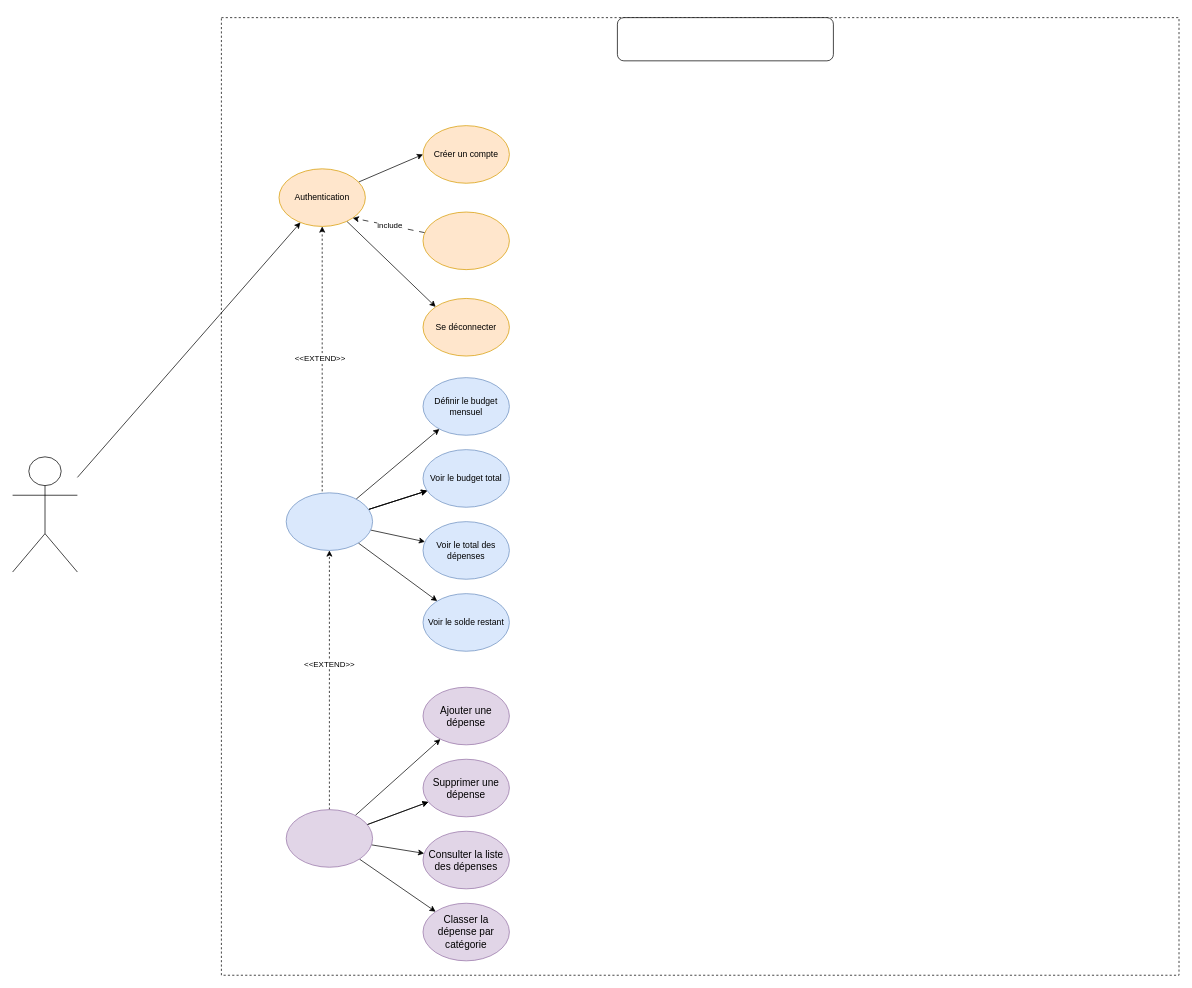
This 1192x988 diagram has some shape labels left out. Here are the shapes that lost their labels. From the top down, the box of each, then its label:
(617, 17, 833, 61): Wallet App
(422, 211, 509, 270): Se connecter
(12, 456, 77, 572): user
(285, 492, 373, 550): Géree Portefeuille
(285, 809, 373, 867): Gerer la déponse
